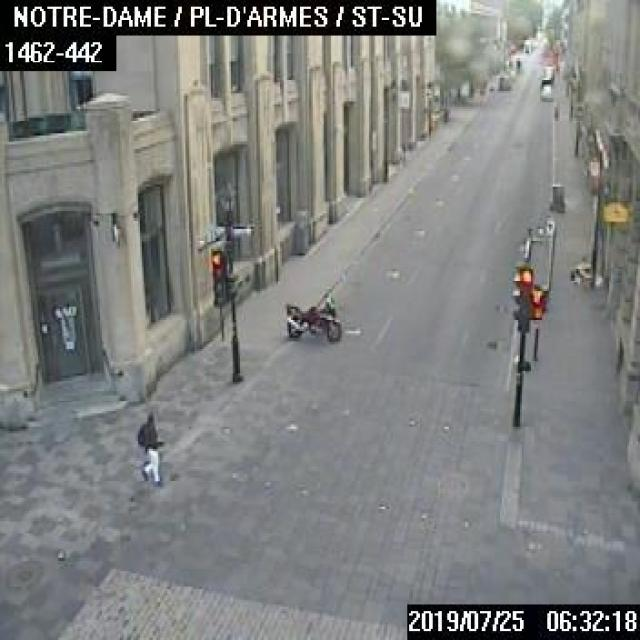pedestrian: (133, 409, 160, 482)
vehicle: (284, 298, 344, 340)
